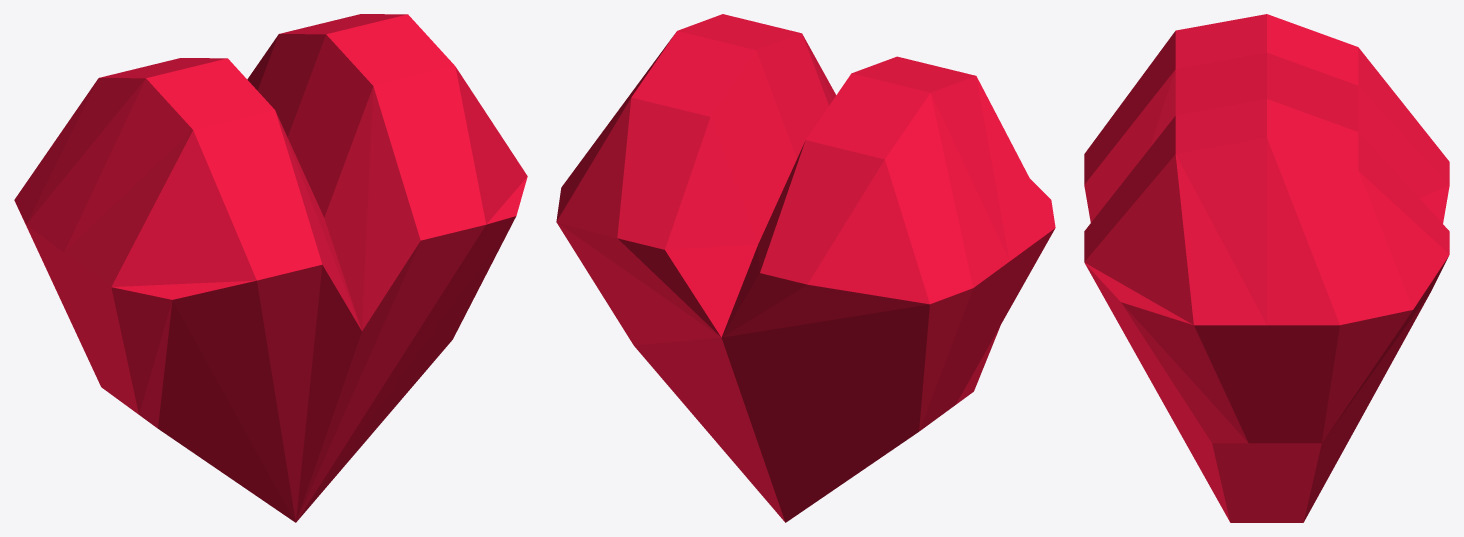
Rendered from inv_heart_crystal_active.obj.
3 renders of one model, left to right at view 1: azimuth 30°, elevation 25°; view 2: azimuth 150°, elevation 25°; view 3: azimuth 270°, elevation 25°, orthographic. The views are drawn at different scales.
Size of the model in its own units: 0.2031 by 0.2109 by 0.1562.
